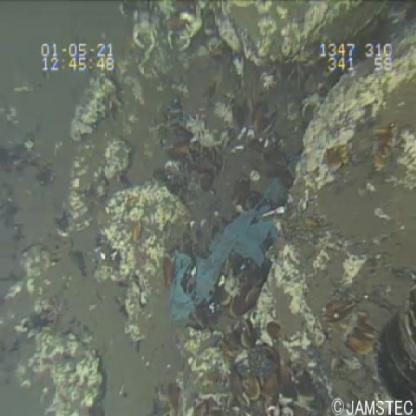Rov: (371, 283, 416, 413)
Rác: (160, 166, 299, 338)
